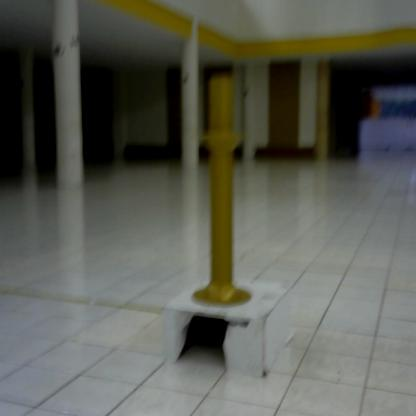pole: (192, 73, 255, 314)
